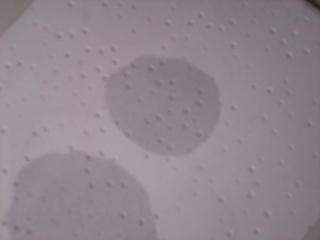Water_detected: (35, 164, 153, 240), (113, 71, 201, 142)
